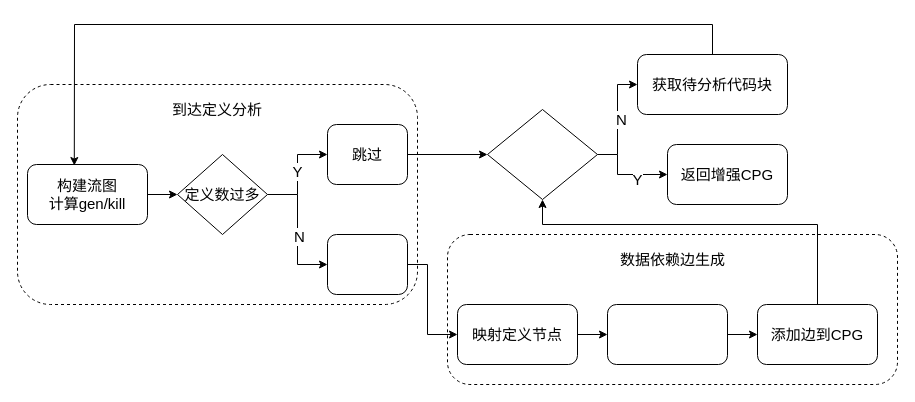
The diagram is 915 pixels wide and 402 high, and some of its shapes have lost their labels. The shapes that lost their labels are listed below. From the top down, each one's centre as x and y in pixels, then its label:
point 542,154: 所有任务完成
point 367,264: 迭代求解 传递/汇合
point 667,334: 筛选def-use对
